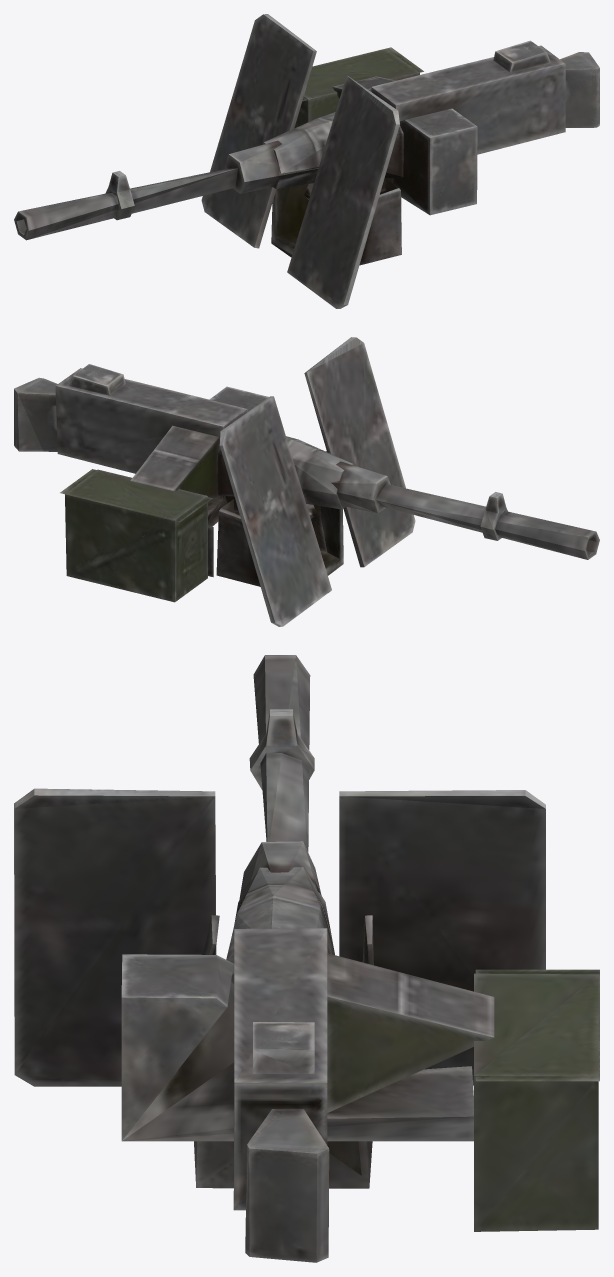
The model's file is car_l_gun_barrel.glb.
3 views of the same model, one above another, from view 1: azimuth 30°, elevation 25°; view 2: azimuth 150°, elevation 25°; view 3: azimuth 270°, elevation 25° (orthographic). The views are drawn at different scales.
Parts seen in each view (by area): view 1: geometry_0; view 2: geometry_0; view 3: geometry_0.
Part boxes in pixels (x1,y1,x2,y2): geometry_0: (14, 14, 599, 308); geometry_0: (14, 337, 599, 626); geometry_0: (14, 655, 599, 1262).
Bounding box in the file's own units: 0.9546 × 0.3008 × 0.4492.
Materials: 1 (1 with a texture image).
